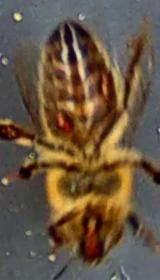varroa_mite: (45, 104, 80, 138), (88, 64, 117, 103)
